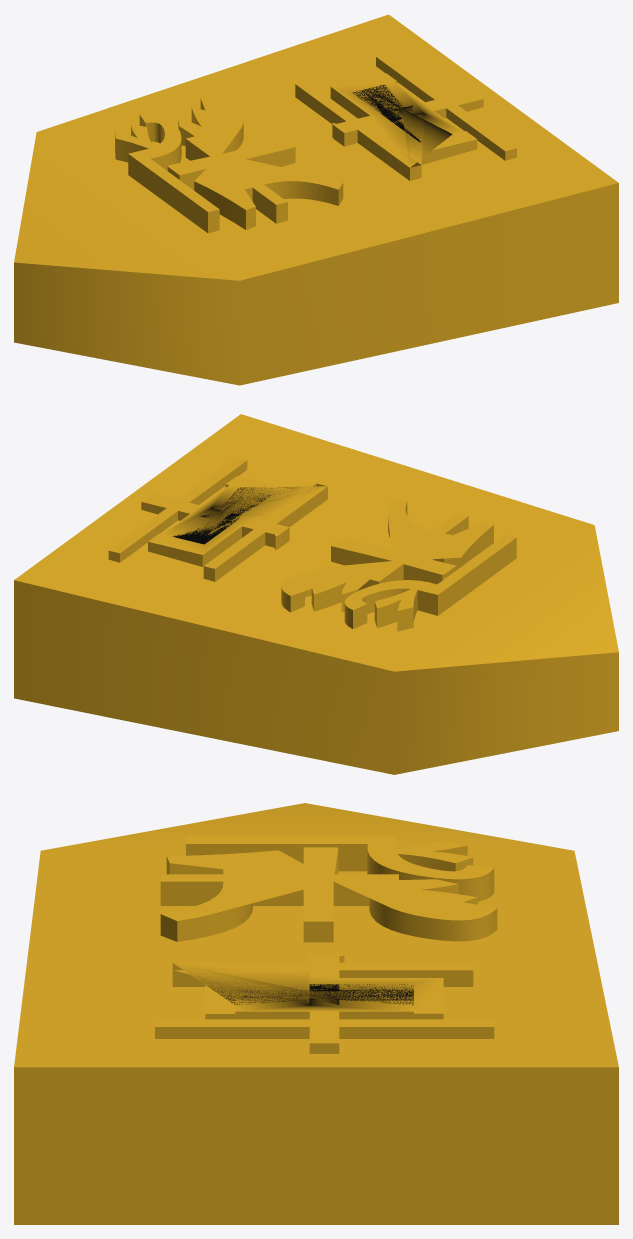
File: castle.fbx
3 views of the same model, one above another, from view 1: azimuth 30°, elevation 25°; view 2: azimuth 150°, elevation 25°; view 3: azimuth 270°, elevation 25° (orthographic). The views are drawn at different scales.
Parts seen in each view (by area): view 1: pCube1, typeMesh1; view 2: pCube1, typeMesh1; view 3: pCube1, typeMesh1.
Boxes of the visible parts, x1,y1,x2,y2 form: pCube1: (14,14,618,385); typeMesh1: (115,54,516,233); pCube1: (14,414,618,774); typeMesh1: (108,457,516,631); pCube1: (14,803,618,1224); typeMesh1: (155,836,497,1053).
Size of the model in its own units: 6.47 by 1.59 by 5.22.
